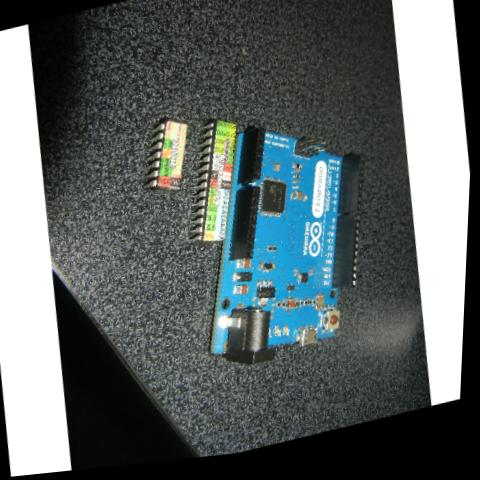Arduino-Leonardo: (174, 79, 408, 412)
